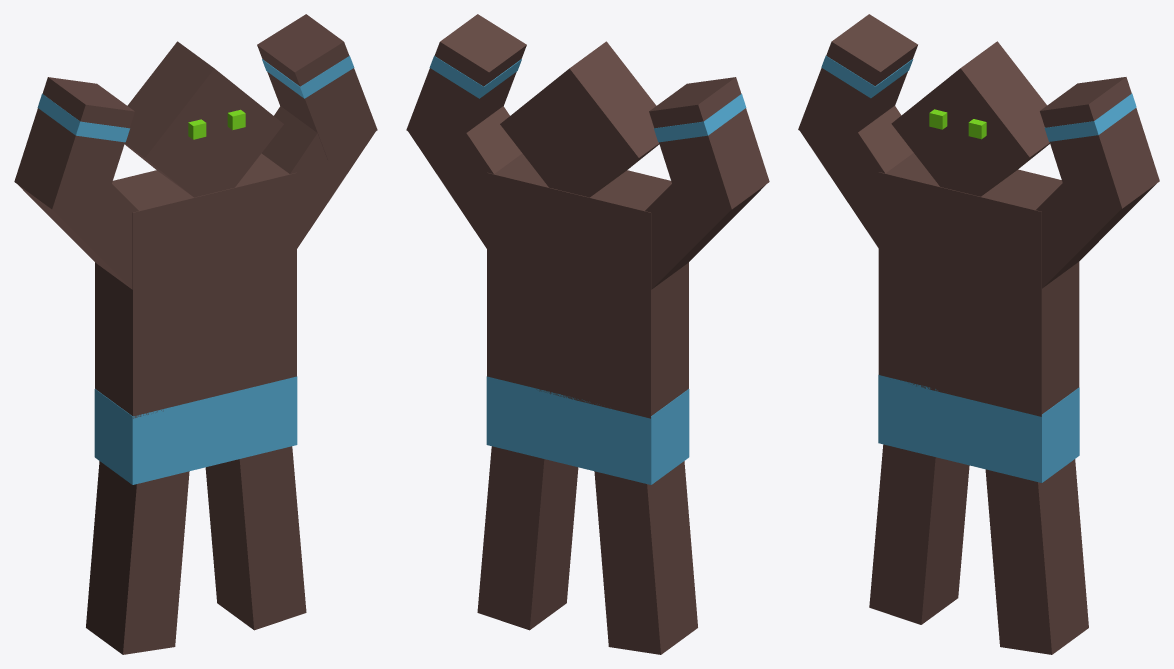
Rendered from VeteranFighter.fbx.
The picture shows the model from 3 angles, left to right: view 1: azimuth 30°, elevation 25°; view 2: azimuth 150°, elevation 25°; view 3: azimuth 330°, elevation 25°; orthographic projection.
Parts seen in each view (by area): view 1: Cube.001, Cube.003, Cube.002, Cube.007, Cube.010, Cube.011; view 2: Cube.001, Cube.003, Cube.002, Cube.007, Cube.010, Cube.011; view 3: Cube.001, Cube.002, Cube.003, Cube.007, Cube.011, Cube.010.
Part boxes in pixels (left/top/right/bottom): Cube.001: left=14, top=14, right=377, bottom=418; Cube.003: left=86, top=461, right=189, bottom=654; Cube.002: left=205, top=446, right=306, bottom=630; Cube.007: left=94, top=376, right=297, bottom=484; Cube.010: left=37, top=93, right=129, bottom=142; Cube.011: left=262, top=55, right=354, bottom=98; Cube.001: left=406, top=14, right=769, bottom=418; Cube.003: left=594, top=461, right=697, bottom=654; Cube.002: left=477, top=446, right=578, bottom=630; Cube.007: left=486, top=376, right=689, bottom=484; Cube.010: left=654, top=93, right=746, bottom=142; Cube.011: left=429, top=55, right=521, bottom=98; Cube.001: left=798, top=14, right=1159, bottom=416; Cube.002: left=985, top=459, right=1088, bottom=654; Cube.003: left=869, top=444, right=969, bottom=624; Cube.007: left=878, top=375, right=1079, bottom=482; Cube.011: left=1044, top=93, right=1136, bottom=141; Cube.010: left=821, top=55, right=913, bottom=98.
Size of the model in its own units: 99.34 by 167 by 22.53.
